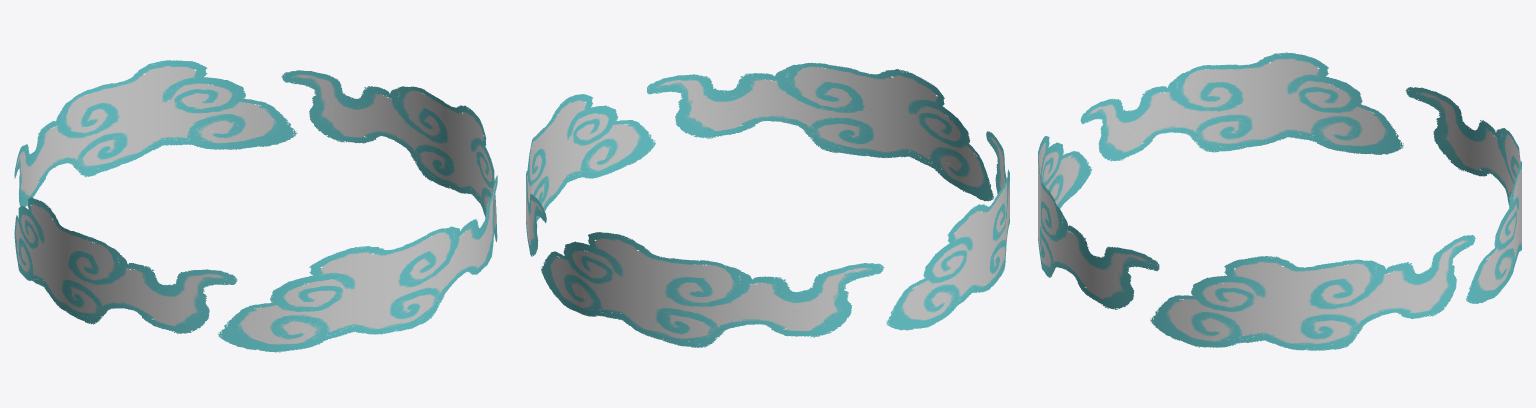
The model's file is effect_board (4).fbx.
The picture shows the model from 3 angles, left to right: view 1: azimuth 30°, elevation 25°; view 2: azimuth 150°, elevation 25°; view 3: azimuth 270°, elevation 25°; orthographic projection.
Parts seen in each view (by area): view 1: cloud3, cloud1, cloud2, cloud4; view 2: cloud1, cloud3, cloud4, cloud2; view 3: cloud4, cloud2, cloud1, cloud3.
Part boxes in pixels (left/top/right/bottom): cloud3: left=14, top=60, right=297, bottom=206; cloud1: left=217, top=175, right=497, bottom=352; cloud2: left=14, top=197, right=237, bottom=333; cloud4: left=281, top=70, right=497, bottom=241; cloud1: left=647, top=62, right=993, bottom=201; cloud3: left=540, top=212, right=884, bottom=347; cloud4: left=526, top=94, right=655, bottom=256; cloud2: left=886, top=131, right=1009, bottom=330; cloud4: left=1150, top=235, right=1475, bottom=350; cloud2: left=1080, top=52, right=1403, bottom=161; cloud1: left=1038, top=136, right=1159, bottom=309; cloud3: left=1405, top=87, right=1521, bottom=303.
Bounding box in the file's own units: 17.04 × 6.87 × 17.1.
